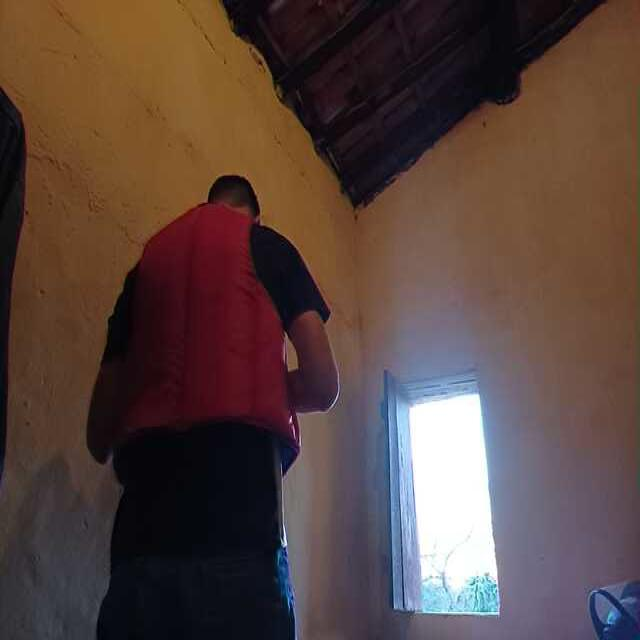capacete: (584, 581, 640, 640)
colete: (116, 206, 300, 463)
pessoa: (102, 153, 318, 640)
